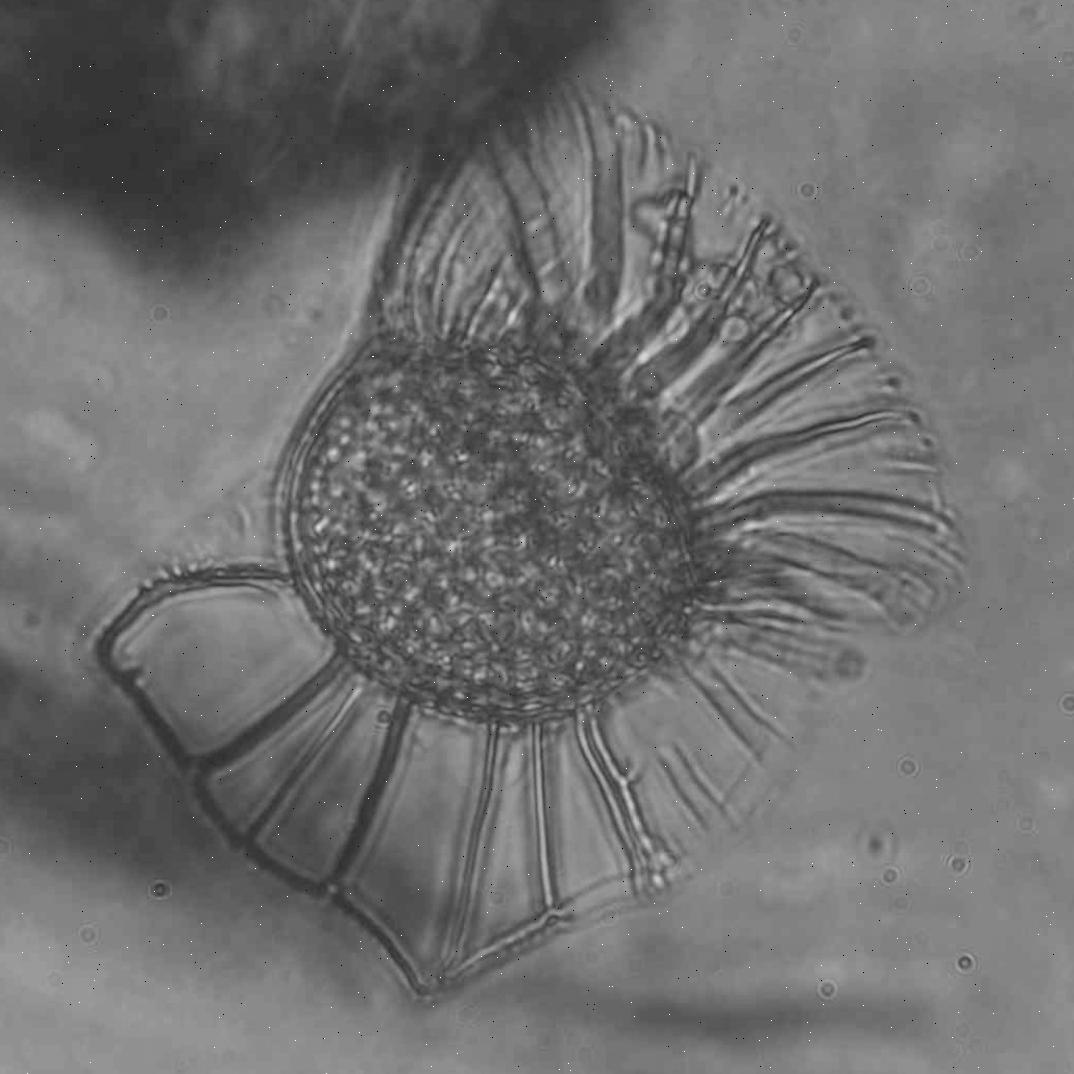ornithocercus_thumii: (86, 84, 945, 997)
